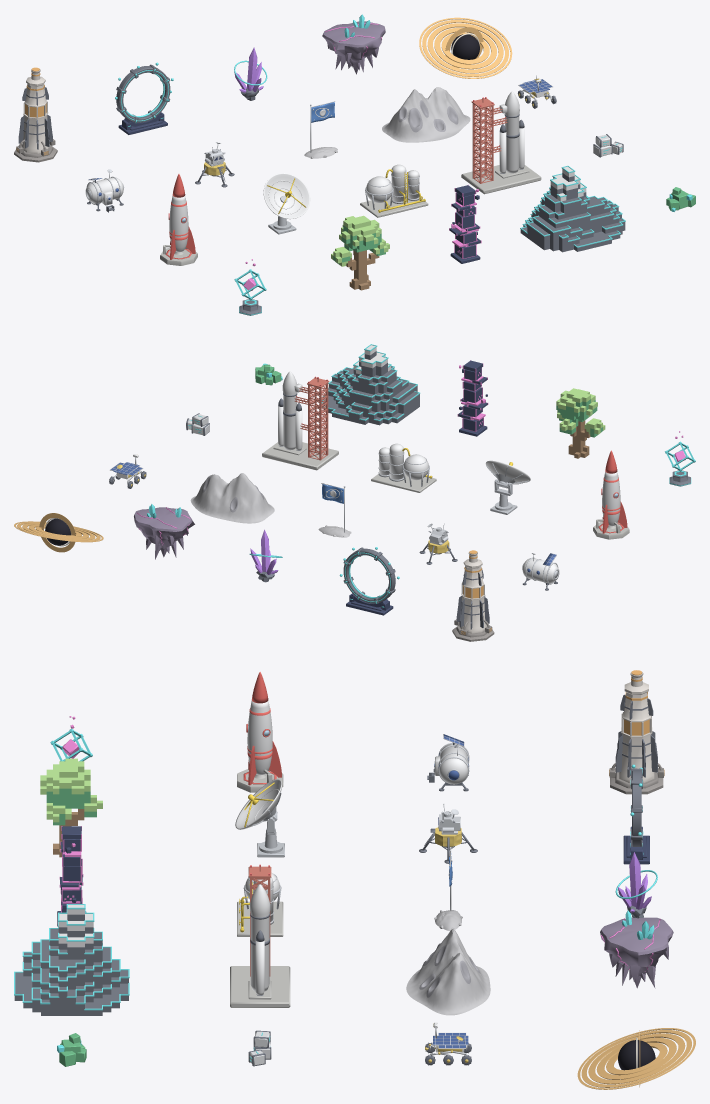
File: RunwayWorld3Space.fbx
3 renders of one model, top to bottom at view 1: azimuth 30°, elevation 25°; view 2: azimuth 150°, elevation 25°; view 3: azimuth 270°, elevation 25°, orthographic. The views are drawn at different scales.
Parts seen in each view (by area): view 1: VoxelPeakRock, BlackHoleDisc, MoonRidgeRock, RiftRockStone, GantrySteel, DishBowl, GantryRocket, GlitchBlocks, TerraformerBody, VoxelPeakGlow, TankBody, VoxelLeavesLight (+17 smaller); view 2: VoxelPeakRock, MoonRidgeRock, RiftRockStone, GantrySteel, GantryRocket, GlitchBlocks, VoxelPeakGlow, BlackHoleDisc, TerraformerBody, TankBody, VoxelLeavesLight, GantryPad (+13 smaller); view 3: VoxelPeakRock, BlackHoleDisc, MoonRidgeRock, RiftRockStone, TerraformerBody, VoxelPeakGlow, GantryPad, VoxelLeavesLight, GantryRocket, GlitchBlocks, RocketBody, TerraformerFins (+14 smaller).
Boxes of the visible parts, x1,y1,x2,y2 form: VoxelPeakRock: (520,173,625,252); BlackHoleDisc: (419,17,512,78); MoonRidgeRock: (382,87,470,142); RiftRockStone: (322,21,385,74); GantrySteel: (471,98,507,183); DishBowl: (263,173,310,219); GantryRocket: (499,91,524,173); GlitchBlocks: (449,185,480,263); TerraformerBody: (21,69,49,153); VoxelPeakGlow: (520,165,625,247); TankBody: (366,164,419,202); VoxelLeavesLight: (331,215,389,266); VoxelPeakRock: (322,351,419,425); MoonRidgeRock: (190,473,274,523); RiftRockStone: (134,507,194,559); GantrySteel: (294,378,329,460); GantryRocket: (278,371,302,450); GlitchBlocks: (458,360,487,436); VoxelPeakGlow: (321,344,420,421); BlackHoleDisc: (14,513,103,552); TerraformerBody: (460,551,486,633); TankBody: (379,443,428,480); VoxelLeavesLight: (556,388,605,434); GantryPad: (262,442,338,470); VoxelPeakRock: (14,914,128,1015); BlackHoleDisc: (577,1028,695,1089); MoonRidgeRock: (406,929,490,1015); RiftRockStone: (600,917,673,988); TerraformerBody: (619,671,654,783); VoxelPeakGlow: (14,904,129,1010); GantryPad: (230,966,290,1007); VoxelLeavesLight: (40,758,102,822); GantryRocket: (250,884,270,995); GlitchBlocks: (57,826,86,926); RocketBody: (247,700,272,775); TerraformerFins: (615,694,657,777).
Size of the model in its own units: 11829 by 2450 by 10863.
